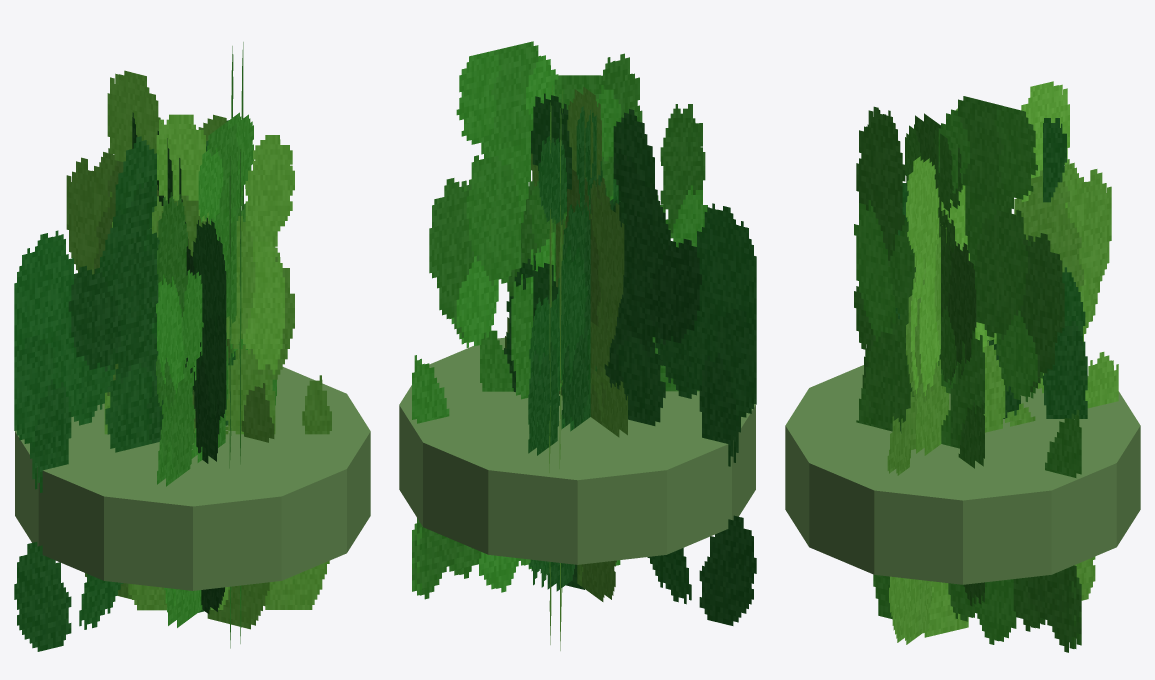
File: PlantFiberBundle.glb
3 views of the same model, side by side, from view 1: azimuth 30°, elevation 25°; view 2: azimuth 150°, elevation 25°; view 3: azimuth 270°, elevation 25° (orthographic).
Parts seen in each view (by area): view 1: PlantFiberBundle_Mesh; view 2: PlantFiberBundle_Mesh; view 3: PlantFiberBundle_Mesh.
Part boxes in pixels (box(x1,y1,x2,y2)): PlantFiberBundle_Mesh: box(14, 42, 370, 651); PlantFiberBundle_Mesh: box(399, 41, 756, 650); PlantFiberBundle_Mesh: box(785, 81, 1140, 652).
Size of the model in its own units: 0.225 by 0.352 by 0.21.
4 materials, 3 textured.
